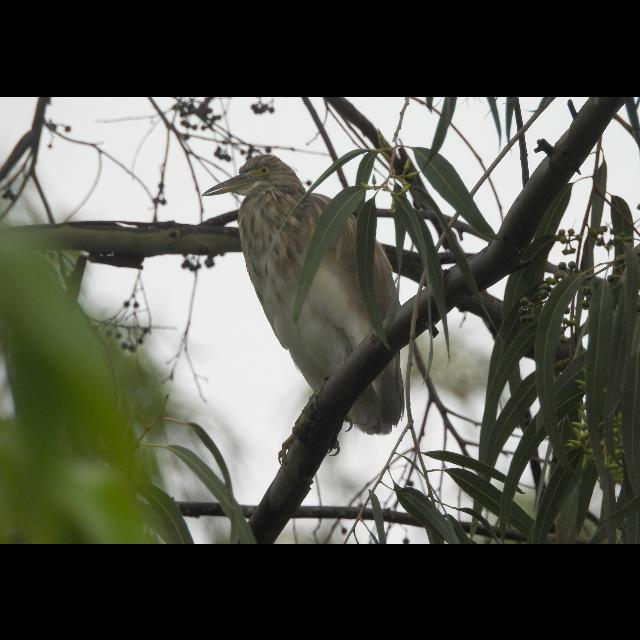heron: (196, 145, 430, 445)
